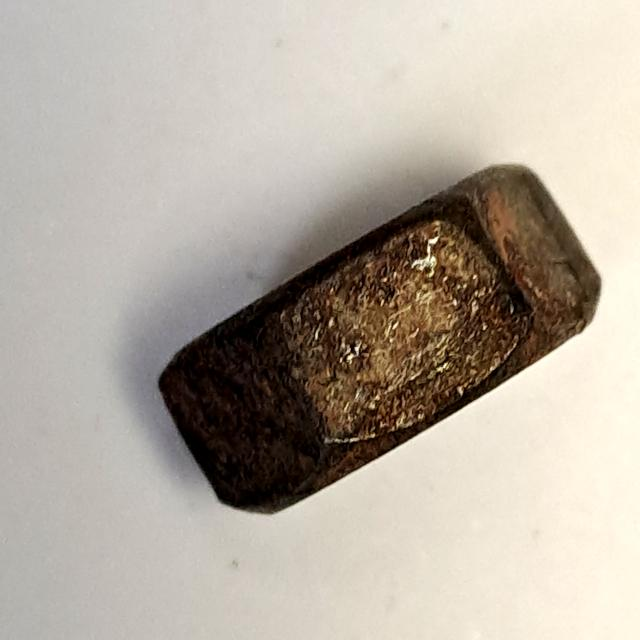Side_Rust: (143, 151, 620, 531)
